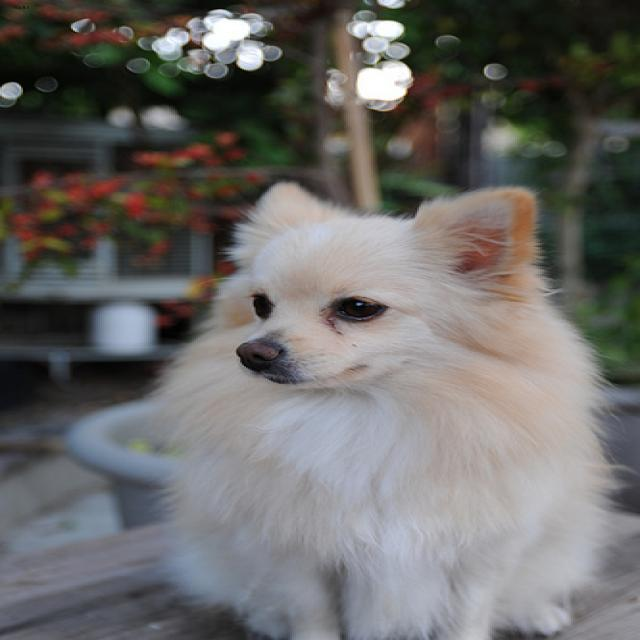dog-pomeranian: (138, 169, 636, 637)
